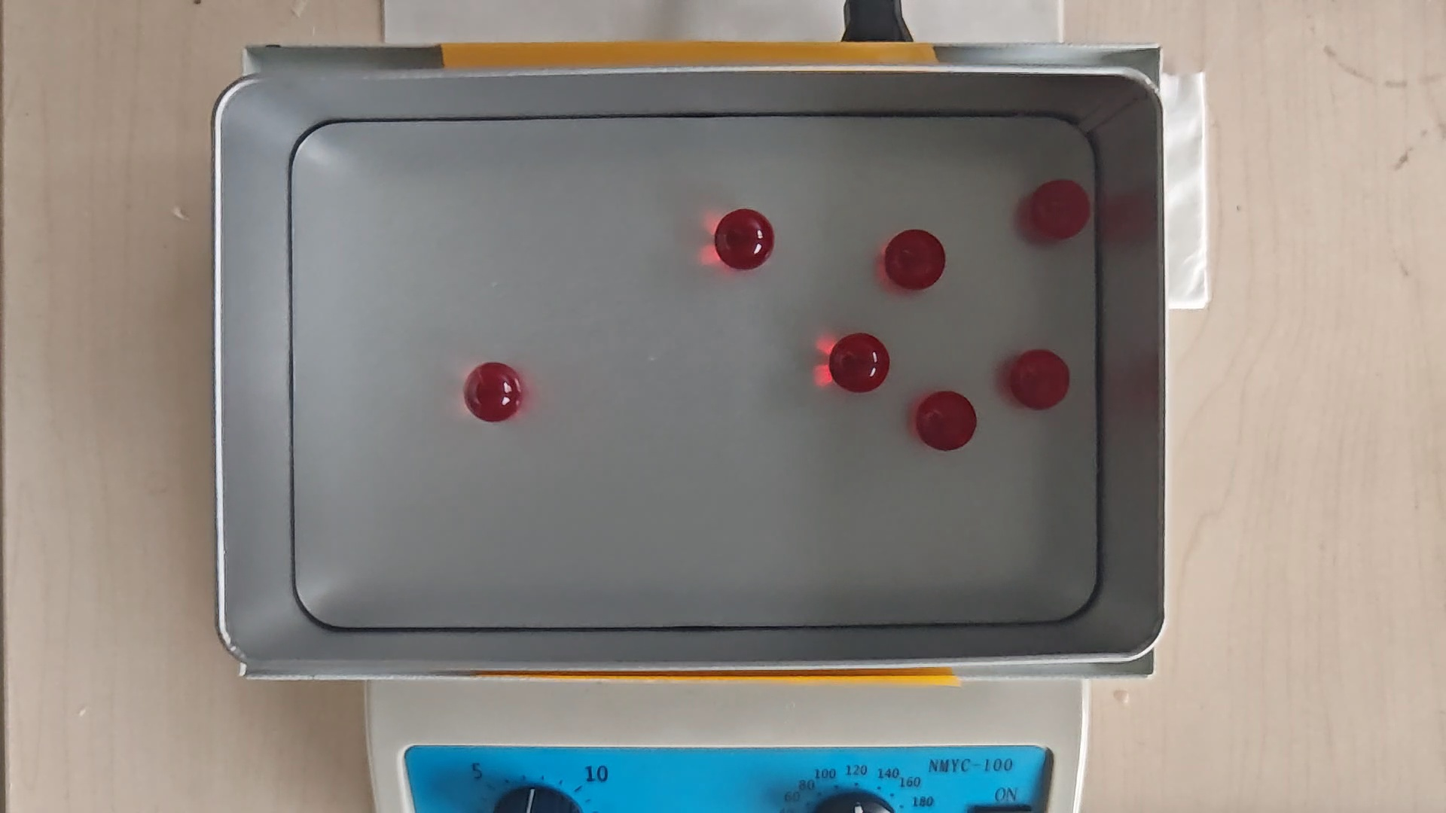ball: (914, 388, 976, 452), (463, 361, 523, 425), (885, 228, 945, 290), (714, 209, 775, 269), (829, 333, 889, 393), (1009, 349, 1069, 409), (1030, 181, 1091, 237)
container: (288, 114, 1100, 625)
